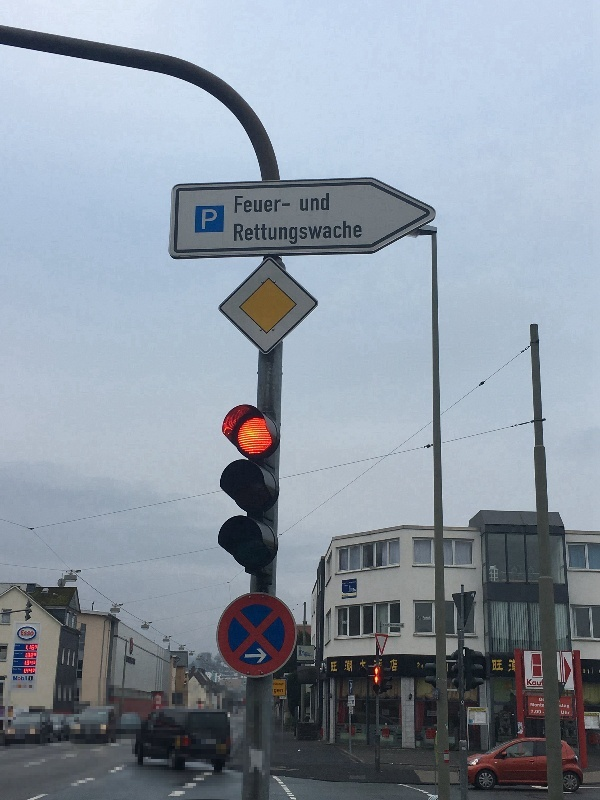text: (241, 220, 256, 249), (257, 220, 272, 249), (273, 220, 288, 249), (289, 220, 304, 249), (305, 220, 320, 249), (321, 220, 336, 249), (337, 220, 352, 249), (305, 193, 320, 212), (241, 196, 256, 214), (257, 196, 272, 214), (353, 220, 362, 249), (497, 658, 512, 673), (337, 659, 352, 673), (353, 659, 366, 673), (234, 220, 240, 249), (321, 193, 330, 212), (385, 659, 398, 672), (209, 209, 217, 230), (273, 196, 282, 214), (374, 659, 384, 672), (202, 209, 208, 230), (529, 678, 542, 686), (274, 688, 288, 695), (418, 662, 432, 669), (561, 710, 576, 716), (235, 196, 240, 214), (531, 709, 544, 715), (300, 193, 304, 212), (513, 658, 518, 673), (417, 616, 432, 621), (385, 623, 400, 628), (331, 659, 336, 673), (21, 630, 32, 636), (531, 703, 544, 708), (561, 703, 570, 710), (492, 658, 496, 673), (17, 676, 27, 681), (282, 200, 288, 208), (26, 668, 32, 674), (33, 645, 38, 651), (28, 652, 32, 659), (27, 661, 32, 666), (539, 697, 544, 702), (350, 682, 352, 694), (33, 652, 36, 659), (13, 676, 16, 681), (33, 661, 36, 666), (401, 623, 404, 628), (30, 645, 32, 651), (33, 668, 35, 674), (30, 676, 32, 681), (527, 678, 528, 686), (289, 200, 290, 208), (559, 703, 560, 710), (33, 630, 34, 636), (383, 623, 384, 628)
